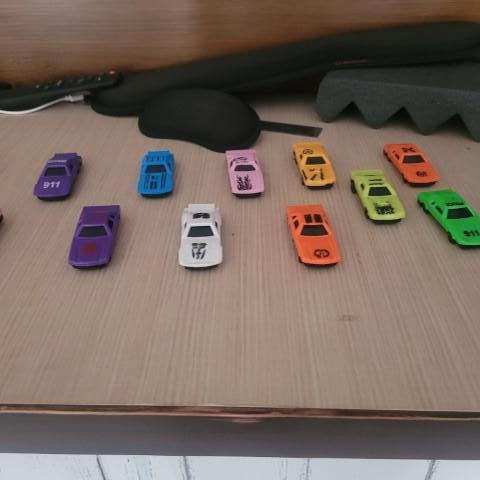car: (282, 197, 343, 266), (67, 204, 125, 272), (174, 201, 230, 271), (421, 189, 480, 251), (348, 165, 406, 225), (384, 131, 439, 185), (287, 135, 338, 190), (219, 143, 268, 199), (35, 148, 84, 201), (138, 146, 176, 197)
